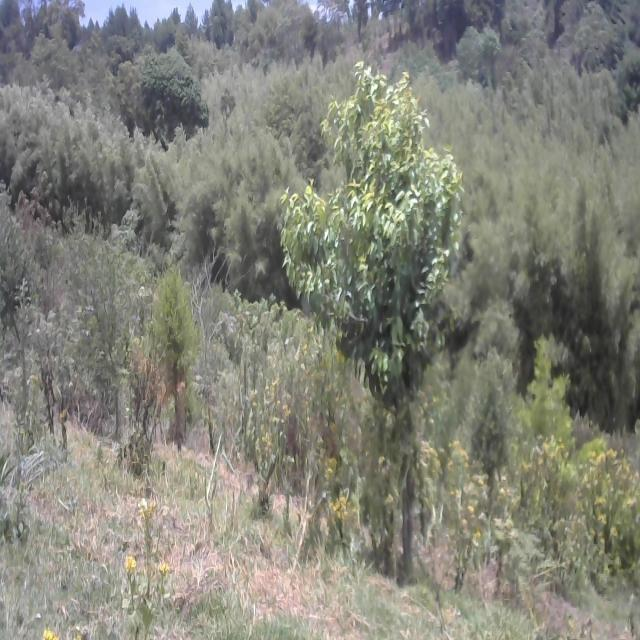Lemon Myrtle: (281, 64, 474, 414)
cedrus: (150, 271, 196, 418)
other: (136, 34, 208, 136)
